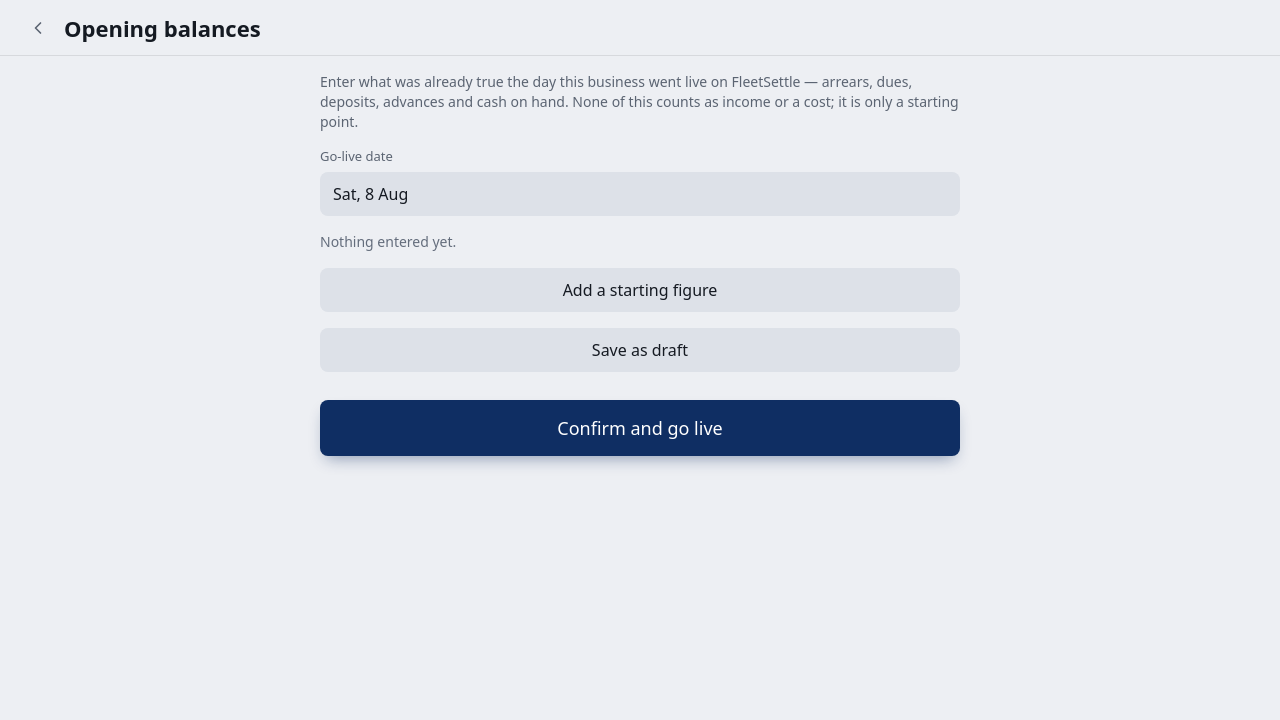
Test: GAP-101: the driver list failing inside 'Add a starting figure' shows a failure notice in place of an empty picker
The image size is (1280, 720).
Click the button "Add a starting figure" at [640, 290], box x1=320 y1=268 x2=960 y2=312
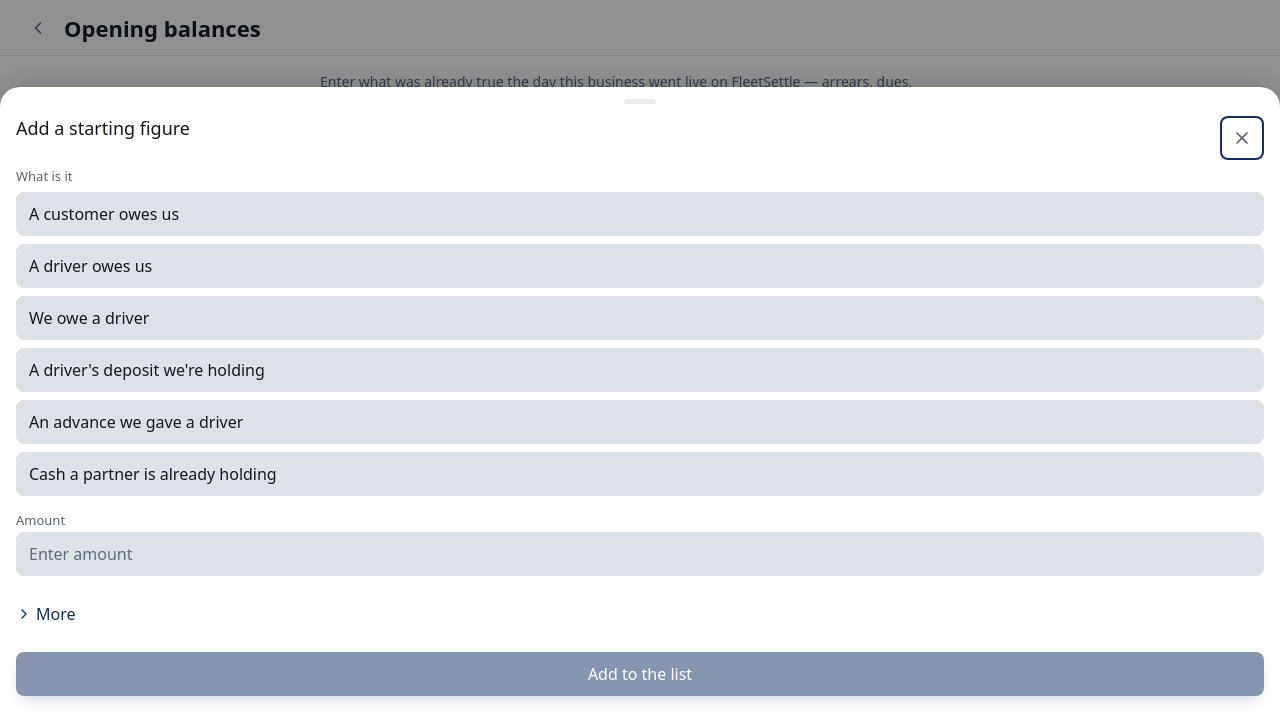
Click the button "We owe a driver" at [89, 318], box x1=16 y1=296 x2=1264 y2=340
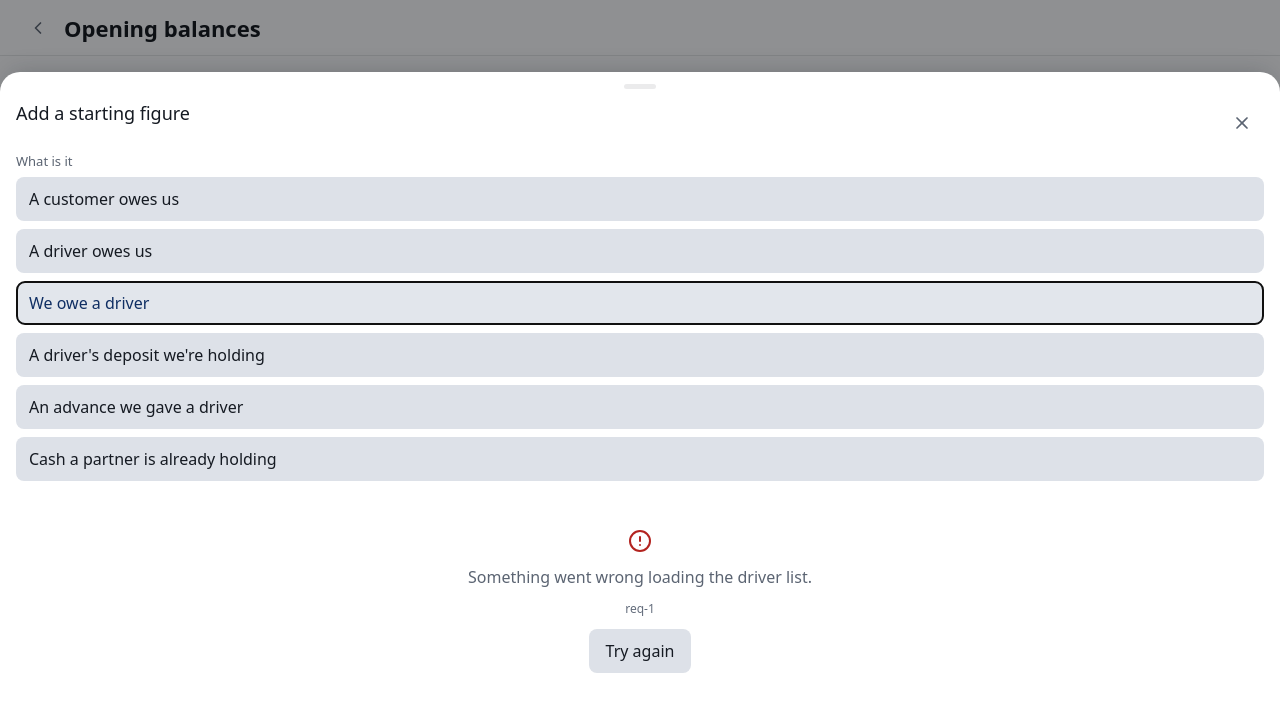
Check: the text "Something went wrong loading the driver list." is shown, box x1=468 y1=565 x2=812 y2=589
